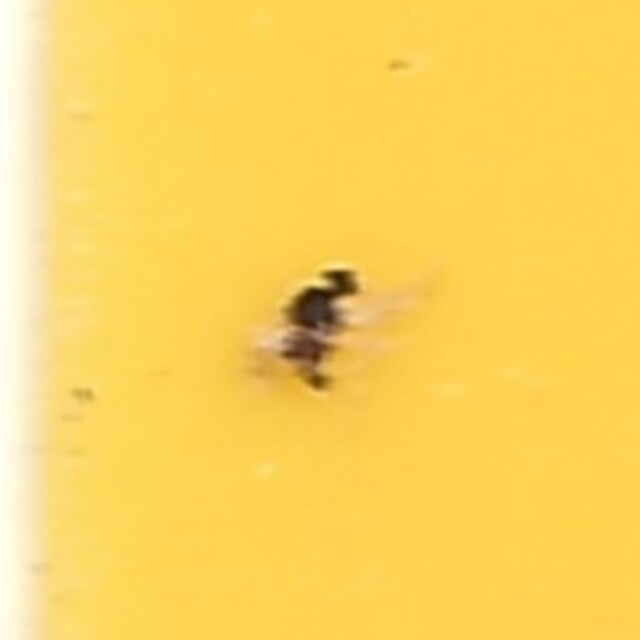Brachycera: (266, 249, 374, 391)
